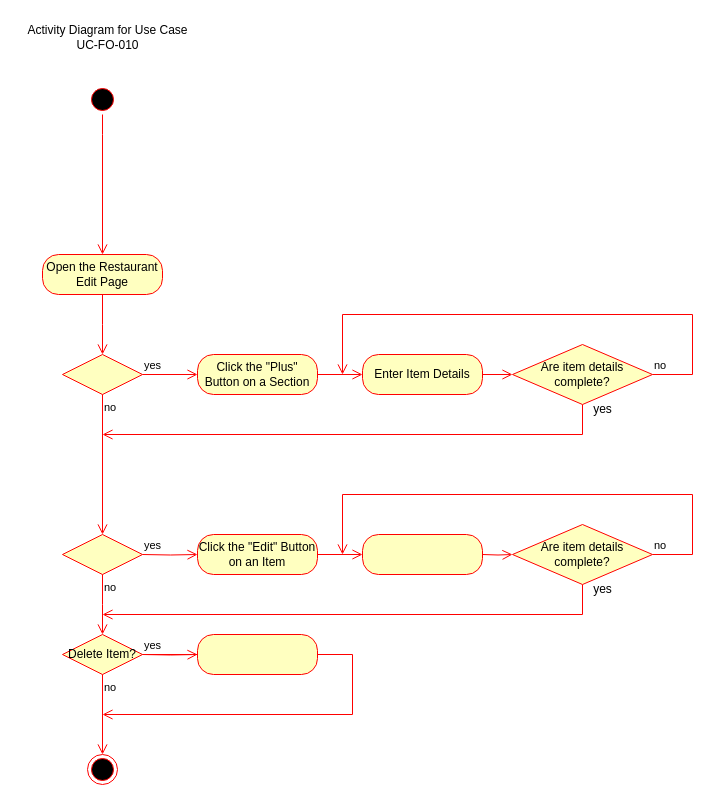
Image size: 720x802. Some labels were removed from this diagram. Each missing label, with the centre of its shape:
Add Item?: the point at 102,374
Click the "Cross" Button on a Section: the point at 257,654
Update Item Details: the point at 422,554
Update Item?: the point at 102,554
